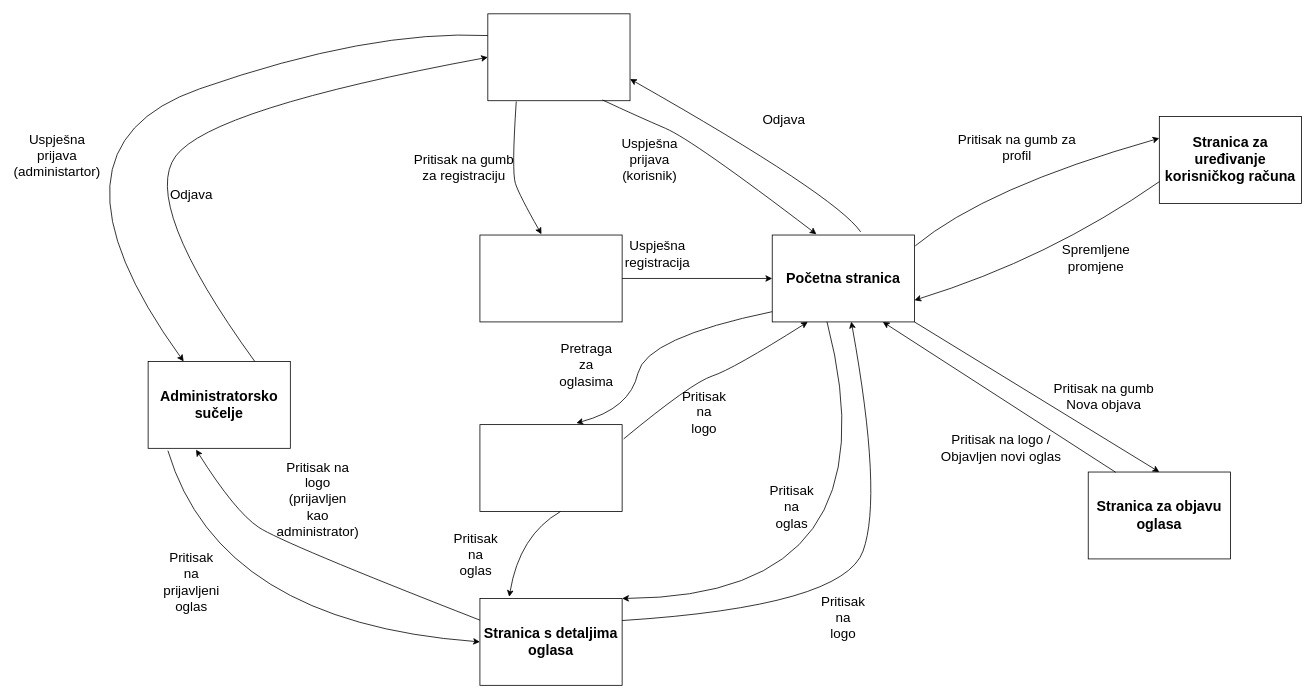
This 1315x699 diagram has some shape labels left out. The centre of each missing label's shape, as x and y in pixels:
"Login stranica" goes at [558,57].
"Stranica sa rezultatima pretrage" goes at [550,468].
"Stranica za registraciju" goes at [550,278].
